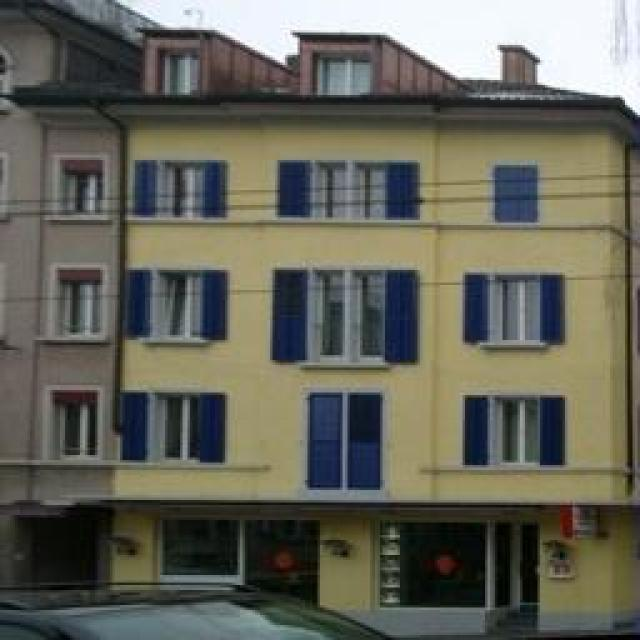building: (130, 23, 640, 635), (3, 3, 125, 635)
